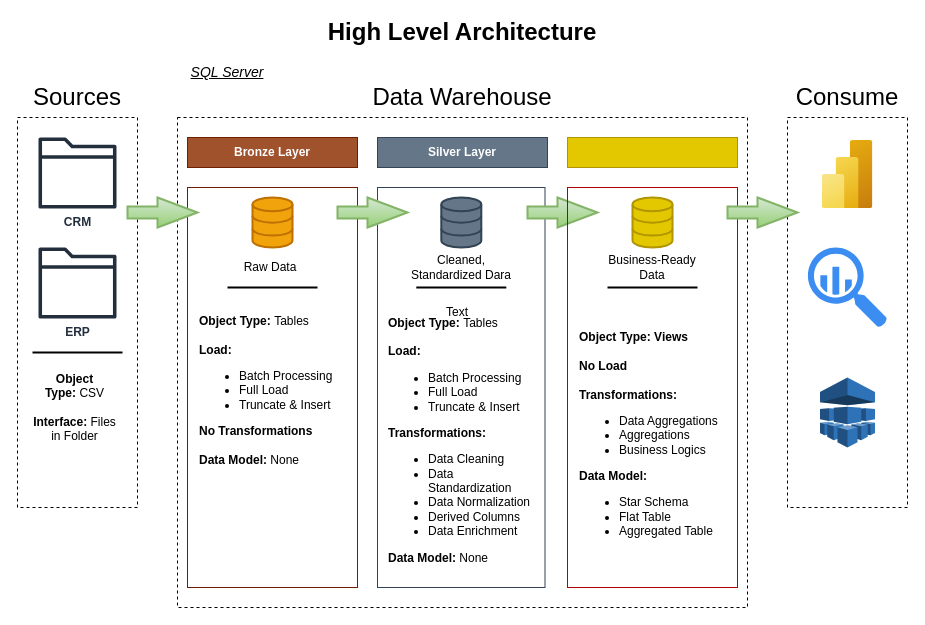
Some shapes in this 925 by 625 pixel diagram are drawn without their labels. Each missing label, with the centre of its shape:
"Ad-Hoc SQL Queries" goes at (x=847, y=287).
"BI & Reporting" goes at (x=847, y=174).
"Machine Learning" goes at (x=847, y=412).
